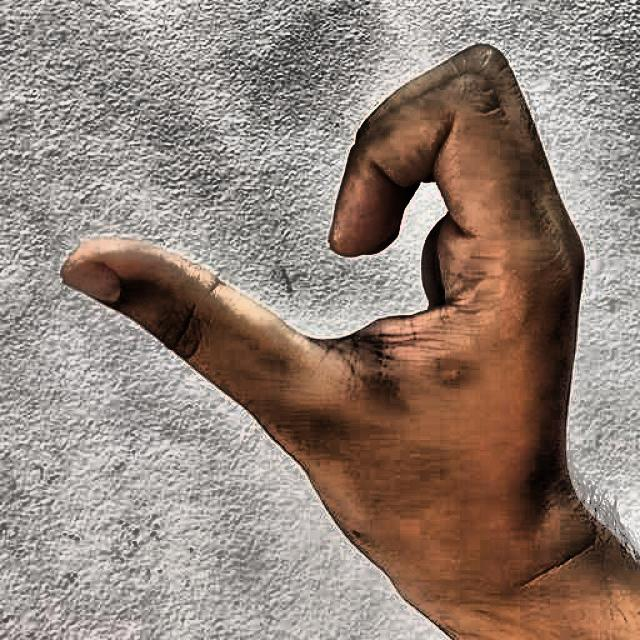Kha: (35, 21, 609, 616)
